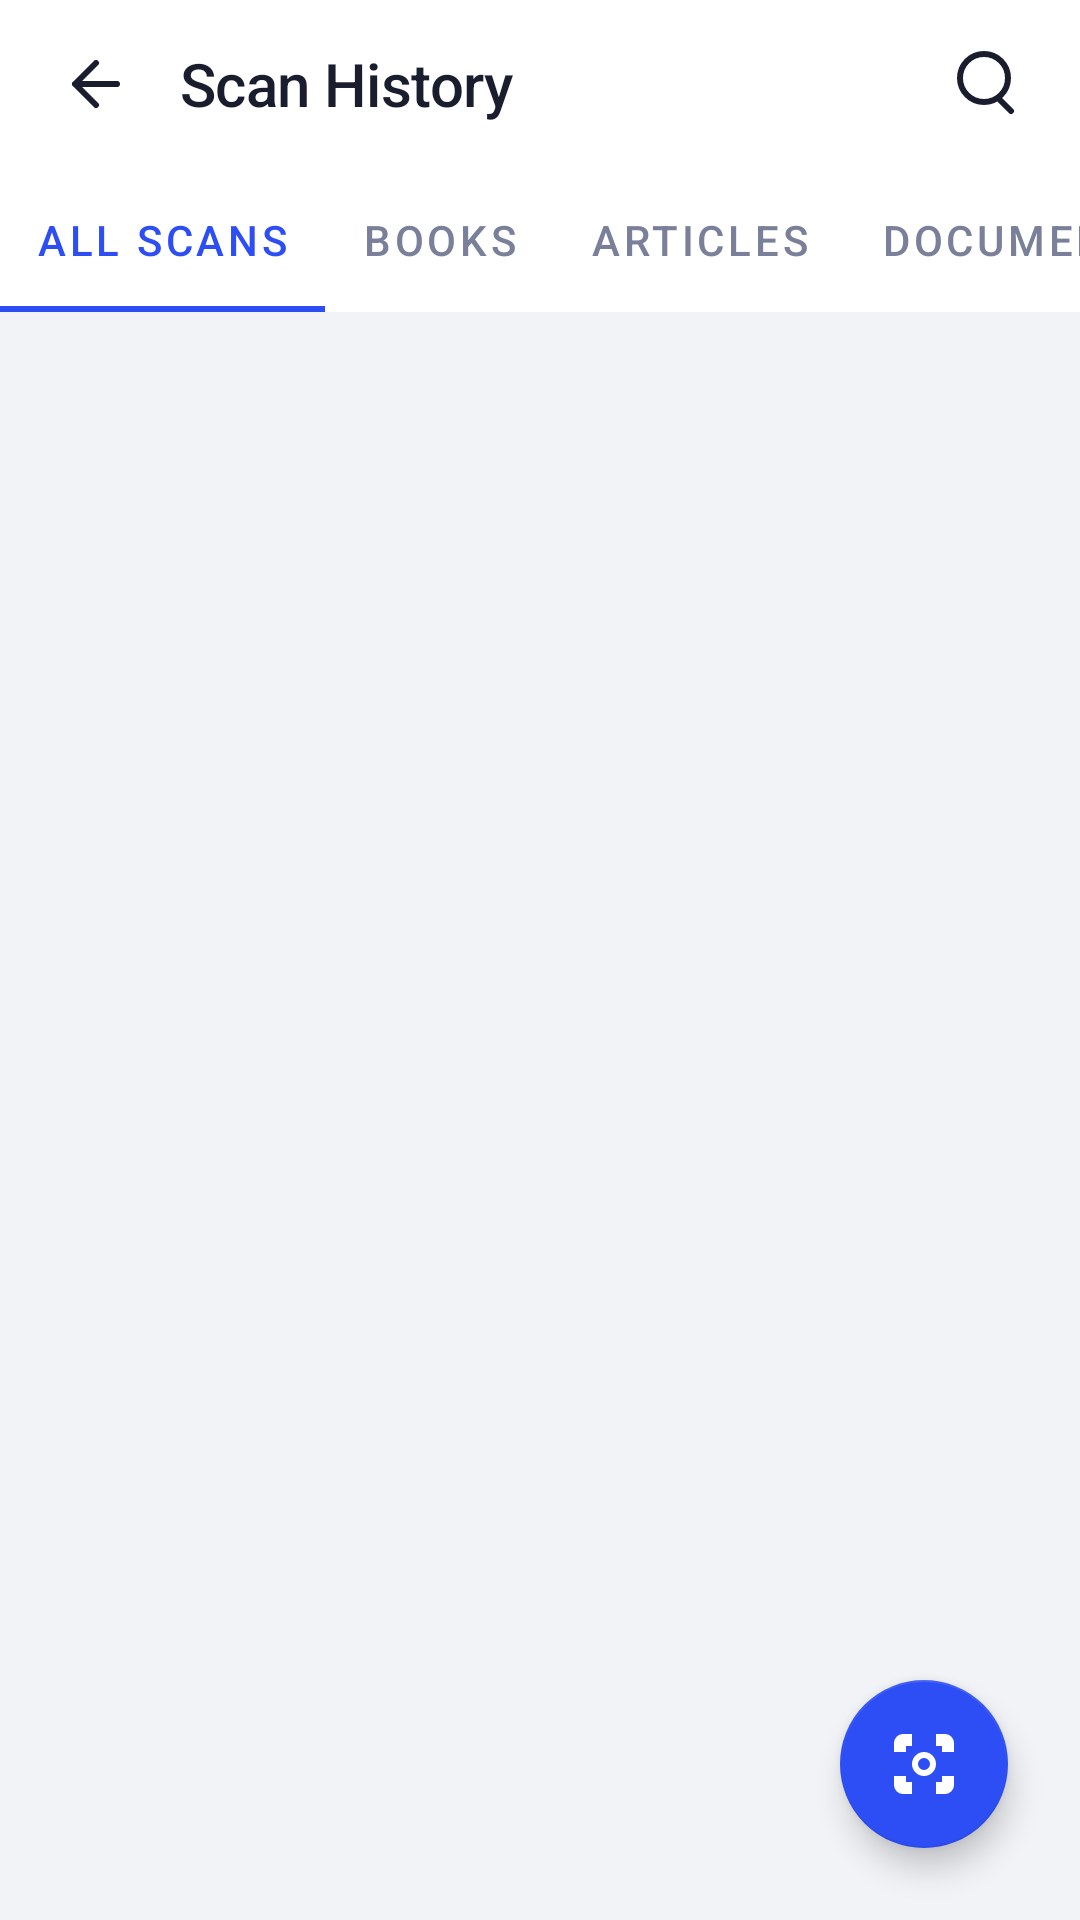

Where to tap for icons on this 1080x1920 app screen, as point (x, y):
Back: point (96, 84)
Scan: point (924, 1764)
Search: point (985, 82)
